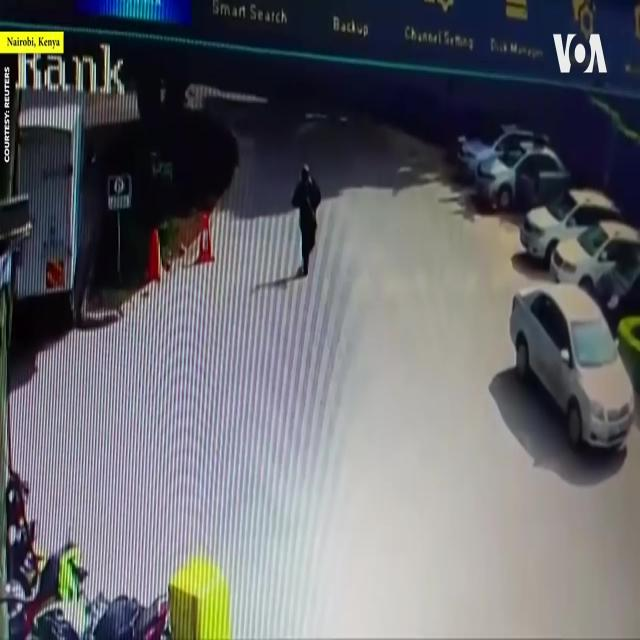Weapon: (298, 188, 322, 227)
